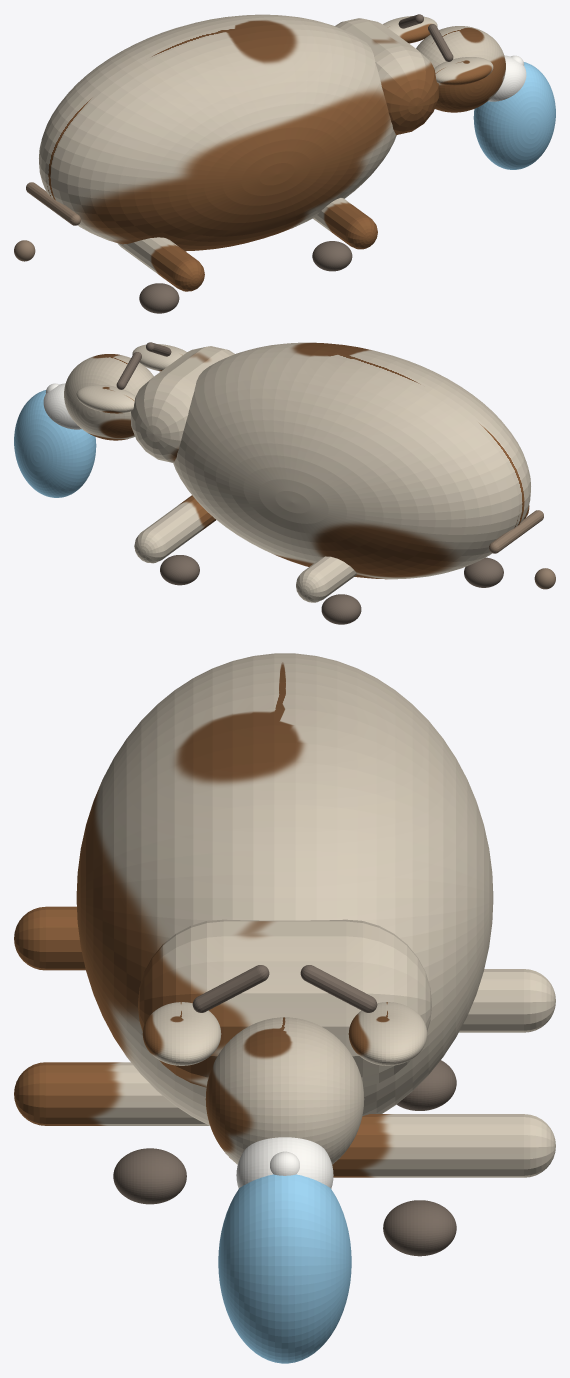
Rendered from 01_cow_outside.glb.
The picture shows the model from 3 angles, top to bottom: view 1: azimuth 30°, elevation 25°; view 2: azimuth 150°, elevation 25°; view 3: azimuth 270°, elevation 25°; orthographic projection. The views are drawn at different scales.
Parts seen in each view (by area): view 1: geometry_0, geometry_18, geometry_1, geometry_2, geometry_8, geometry_12, geometry_4, geometry_9, geometry_13, geometry_3, geometry_16, geometry_6 (+2 smaller); view 2: geometry_0, geometry_18, geometry_1, geometry_2, geometry_14, geometry_10, geometry_6, geometry_11, geometry_15, geometry_9, geometry_3, geometry_16 (+3 smaller); view 3: geometry_0, geometry_1, geometry_18, geometry_2, geometry_14, geometry_12, geometry_10, geometry_4, geometry_6, geometry_8, geometry_13, geometry_15 (+4 smaller).
Part boxes in pixels (x1,y1,x2,y2): geometry_0: (39, 14, 396, 251); geometry_18: (473, 62, 555, 169); geometry_1: (335, 18, 438, 134); geometry_2: (416, 26, 505, 112); geometry_8: (118, 237, 204, 291); geometry_12: (313, 198, 377, 249); geometry_4: (434, 57, 493, 85); geometry_9: (139, 283, 179, 313); geometry_13: (312, 241, 352, 271); geometry_3: (488, 55, 526, 101); geometry_16: (26, 182, 80, 225); geometry_6: (383, 16, 437, 43); geometry_0: (173, 342, 530, 579); geometry_18: (14, 390, 96, 497); geometry_1: (131, 346, 234, 462); geometry_2: (64, 354, 153, 440); geometry_14: (134, 495, 215, 563); geometry_10: (296, 556, 356, 602); geometry_6: (76, 385, 135, 413); geometry_11: (321, 594, 361, 624); geometry_15: (160, 555, 199, 585); geometry_9: (464, 557, 503, 587); geometry_3: (43, 383, 81, 429); geometry_16: (489, 510, 543, 553); geometry_0: (76, 653, 493, 1125); geometry_1: (138, 919, 431, 1087); geometry_18: (218, 1174, 351, 1363); geometry_2: (205, 1017, 364, 1164); geometry_14: (332, 1114, 555, 1177); geometry_12: (14, 1062, 209, 1125); geometry_10: (459, 969, 555, 1032); geometry_4: (142, 1002, 221, 1065); geometry_6: (348, 1002, 427, 1065); geometry_8: (14, 906, 85, 970); geometry_13: (113, 1148, 186, 1204); geometry_15: (383, 1200, 456, 1256).
Size of the model in its own units: 4.65 by 1.9 by 2.21.
Materials: 5 (1 with a texture image).
